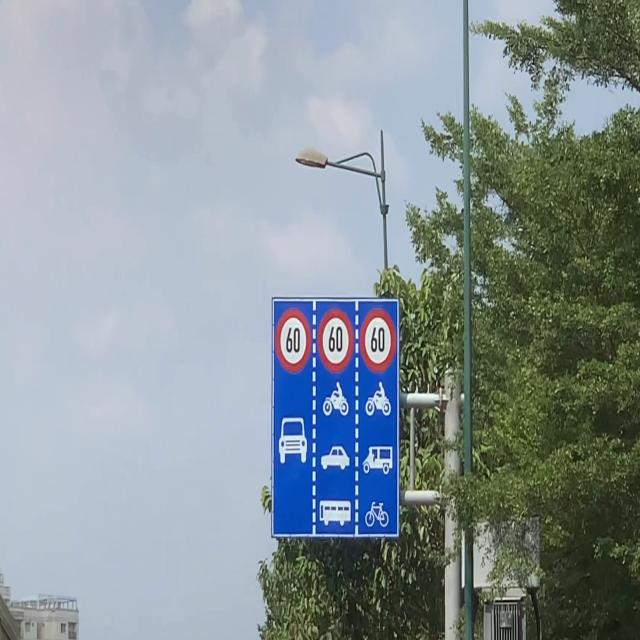Toc do toi da: (275, 307, 312, 374), (360, 308, 396, 374), (318, 308, 354, 373)
